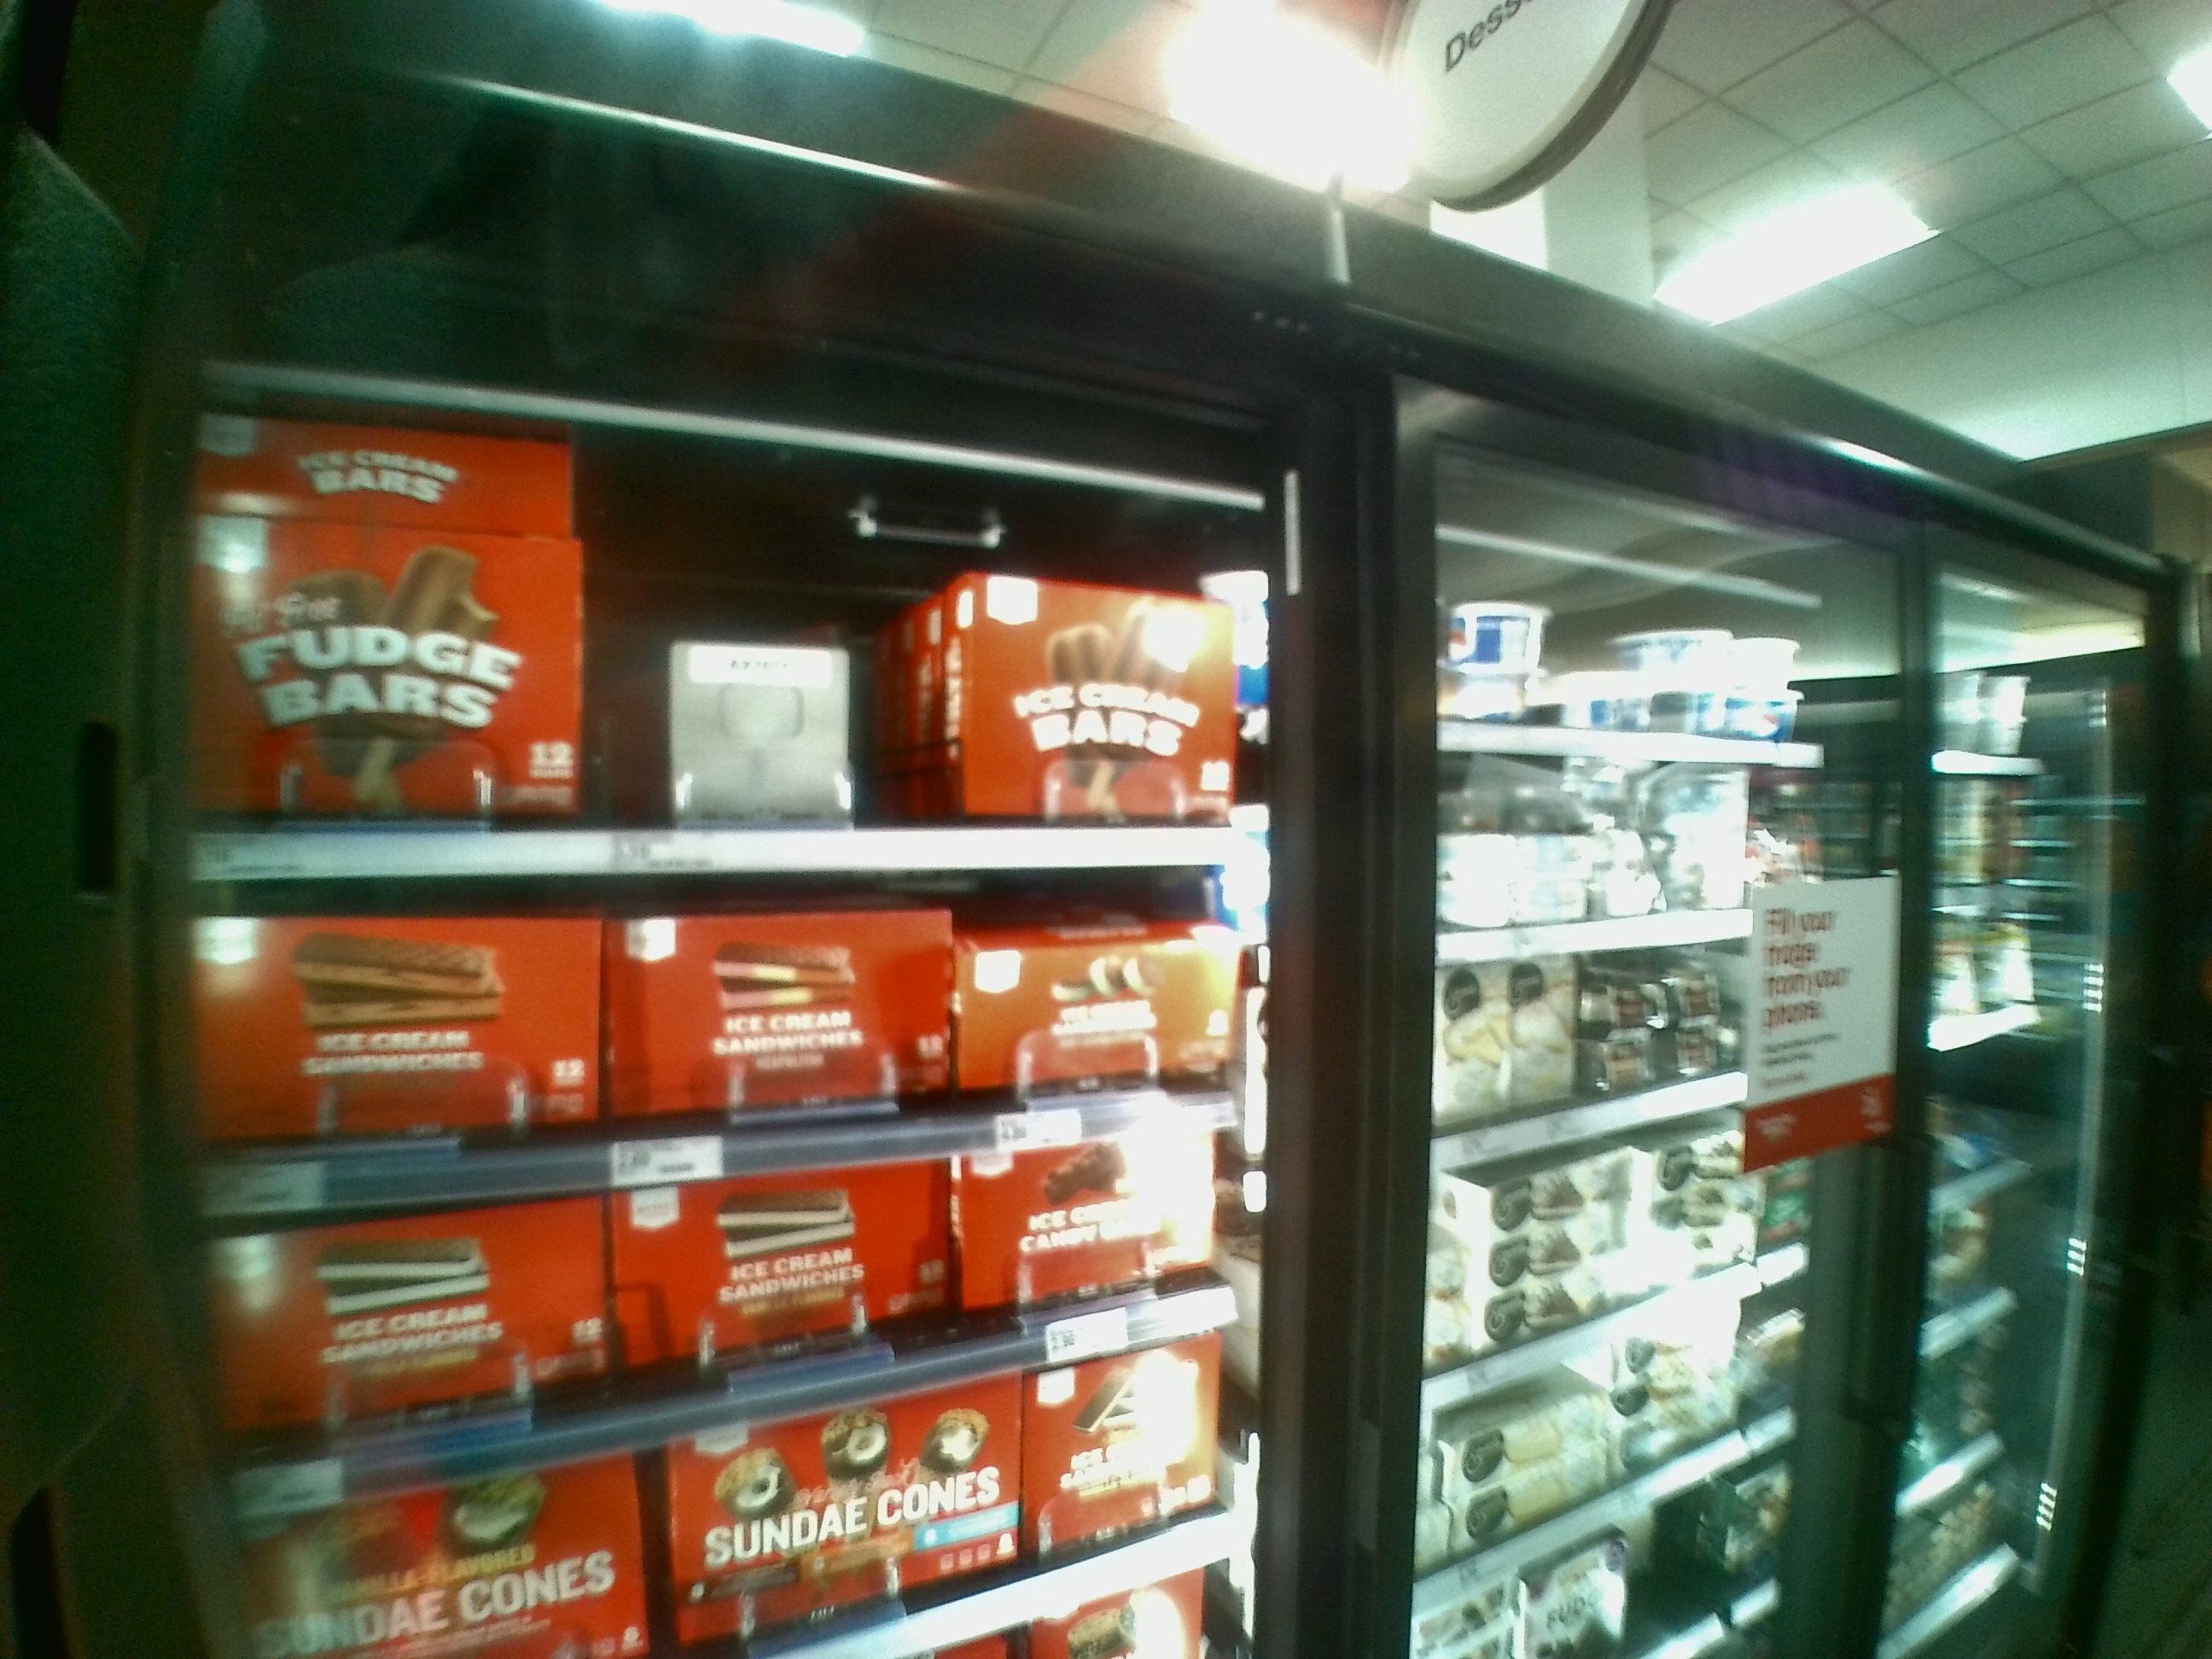shelf: (190, 396, 1273, 873), (219, 1103, 1252, 1406), (174, 866, 1270, 1148)
